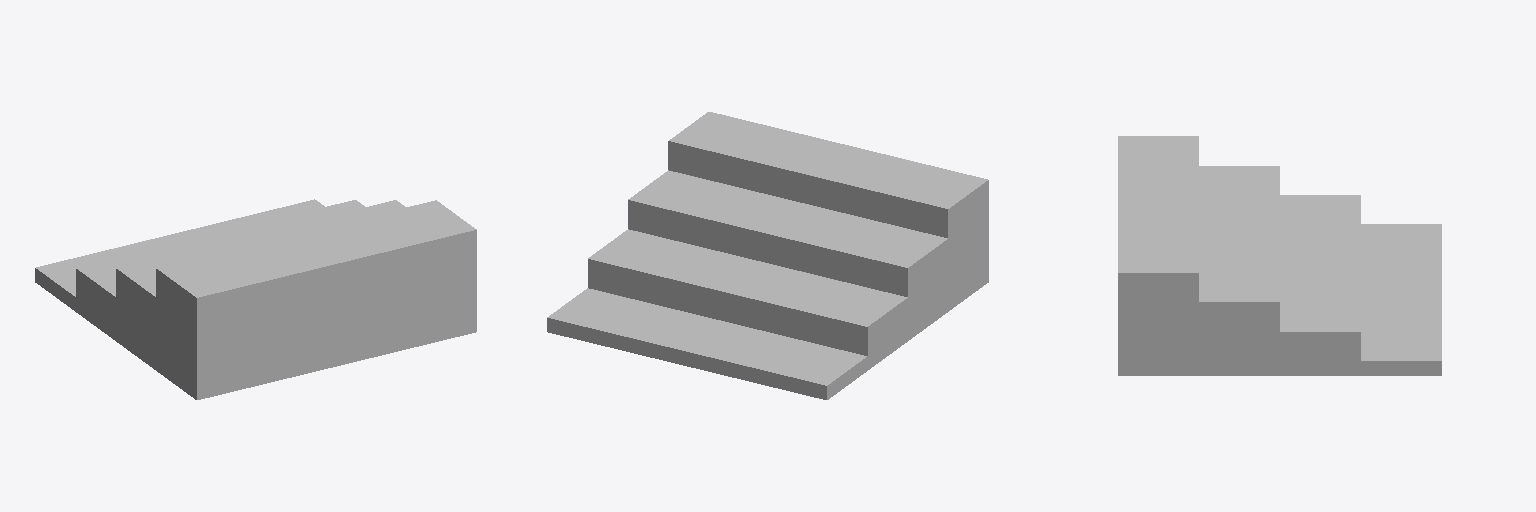
The model's file is floor-stairs.obj.
3 renders of one model, left to right at view 1: azimuth 30°, elevation 25°; view 2: azimuth 150°, elevation 25°; view 3: azimuth 270°, elevation 25°, orthographic.
Visible parts, largest first — view 1: floor-stairs; view 2: floor-stairs; view 3: floor-stairs.
Boxes of the visible parts, box(x1,y1,x2,y2) form: floor-stairs: box(35, 199, 476, 399); floor-stairs: box(547, 112, 988, 399); floor-stairs: box(1118, 136, 1441, 375).
Size of the model in its own units: 1 by 0.35 by 1.